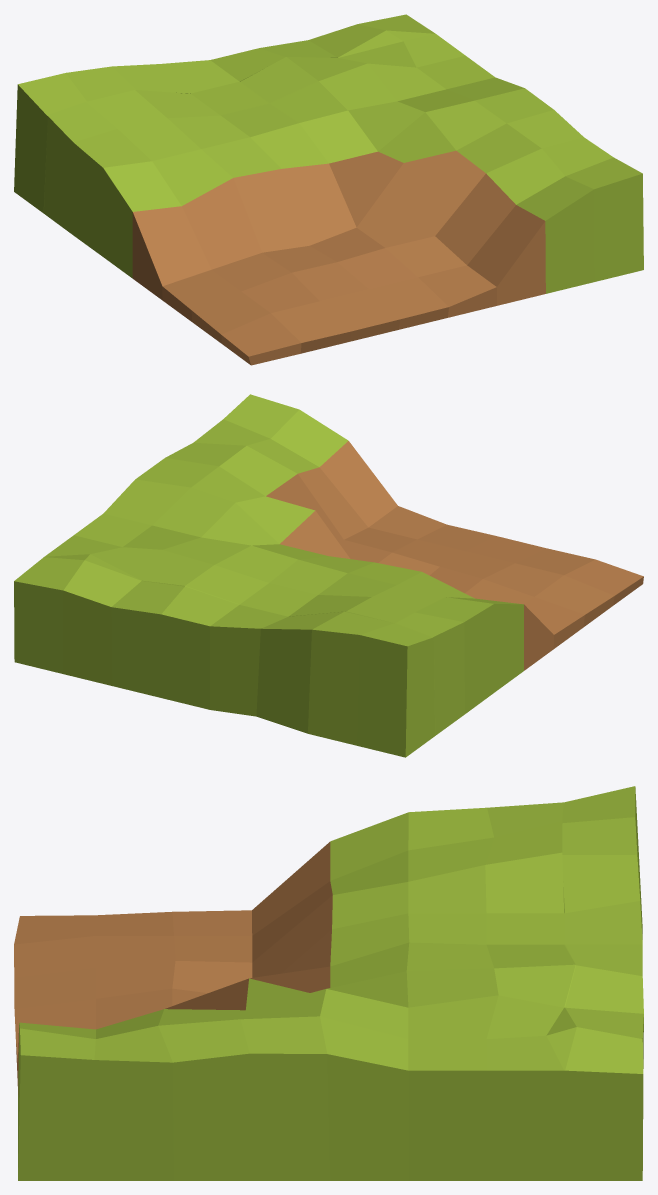
Rendered from world1.gltf.
3 renders of one model, top to bottom at view 1: azimuth 30°, elevation 25°; view 2: azimuth 150°, elevation 25°; view 3: azimuth 270°, elevation 25°, orthographic. The views are drawn at different scales.
Visible parts, largest first — view 1: Plane.001; view 2: Plane.001; view 3: Plane.001.
Part boxes in pixels (x1,y1,x2,y2): Plane.001: [14, 14, 643, 365]; Plane.001: [14, 394, 643, 757]; Plane.001: [14, 786, 643, 1180].
Size of the model in its own units: 69.05 by 18.28 by 72.57.
